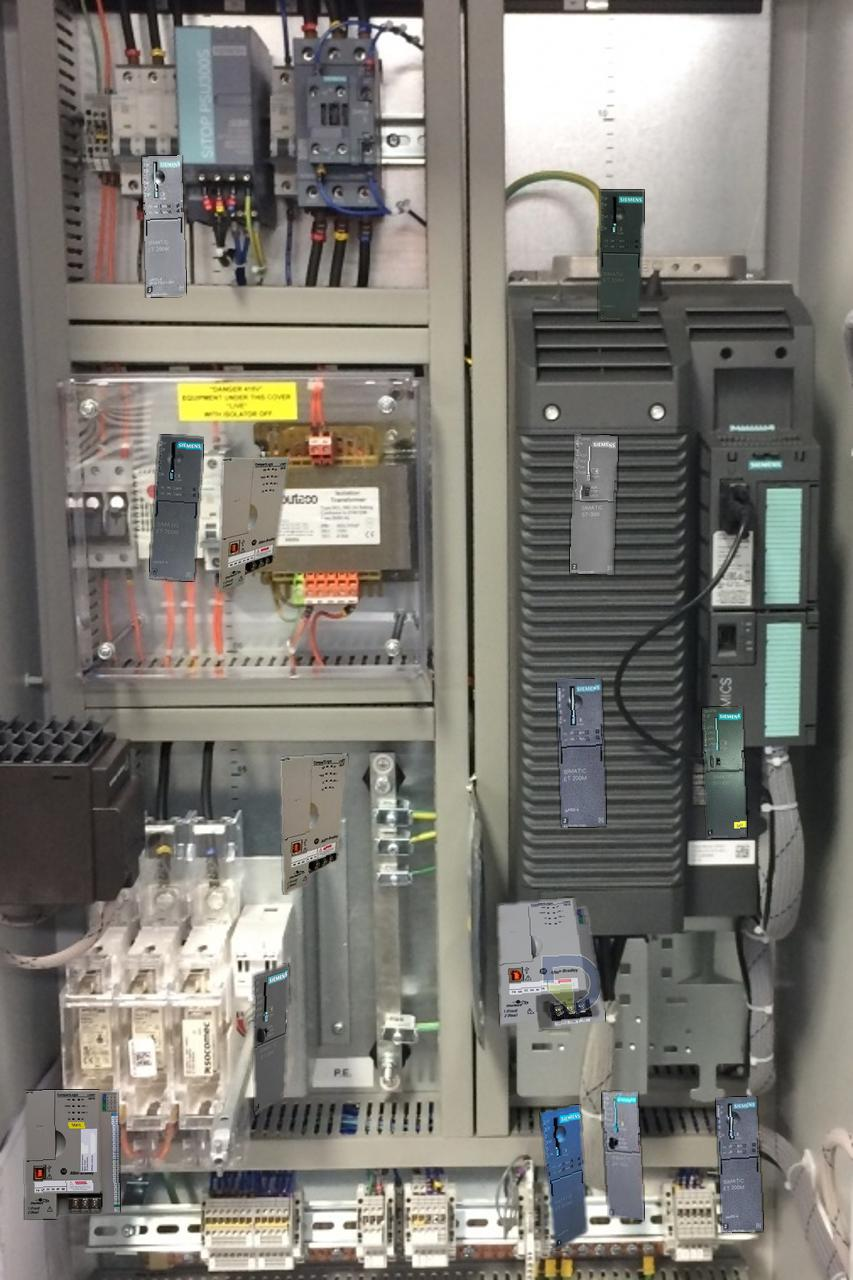AllenBradley: (498, 898, 604, 1029), (25, 1090, 119, 1219), (280, 753, 347, 894), (219, 457, 288, 593)
Siemens: (570, 435, 617, 573), (702, 707, 746, 838), (253, 963, 288, 1114), (602, 1092, 643, 1219)
